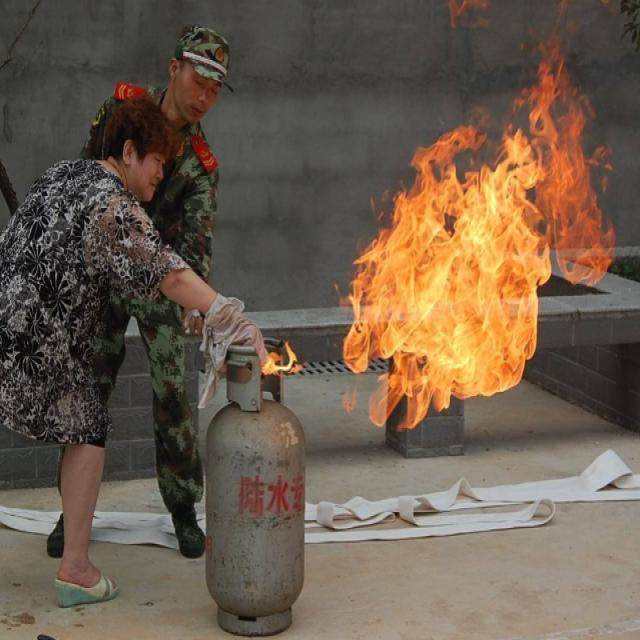Fire: (345, 51, 621, 434), (262, 340, 302, 382)
